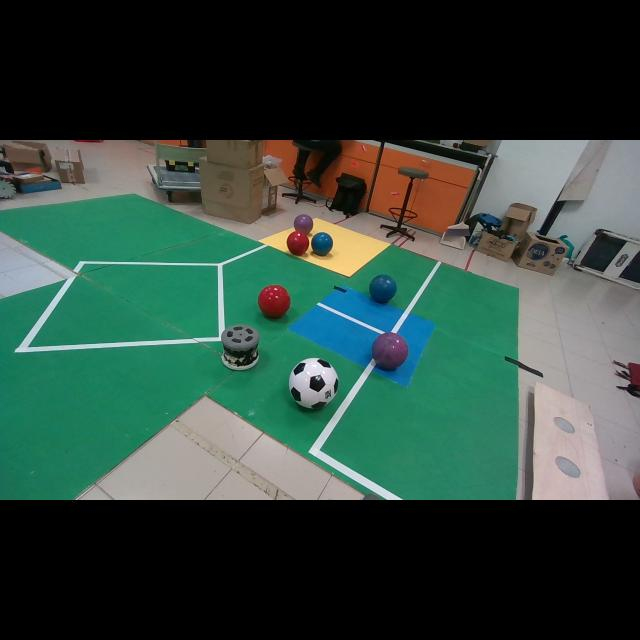B: (369, 275, 396, 304), (311, 232, 332, 256)
P: (371, 332, 409, 370), (294, 214, 314, 234)
R: (258, 285, 291, 318), (286, 231, 309, 256)
